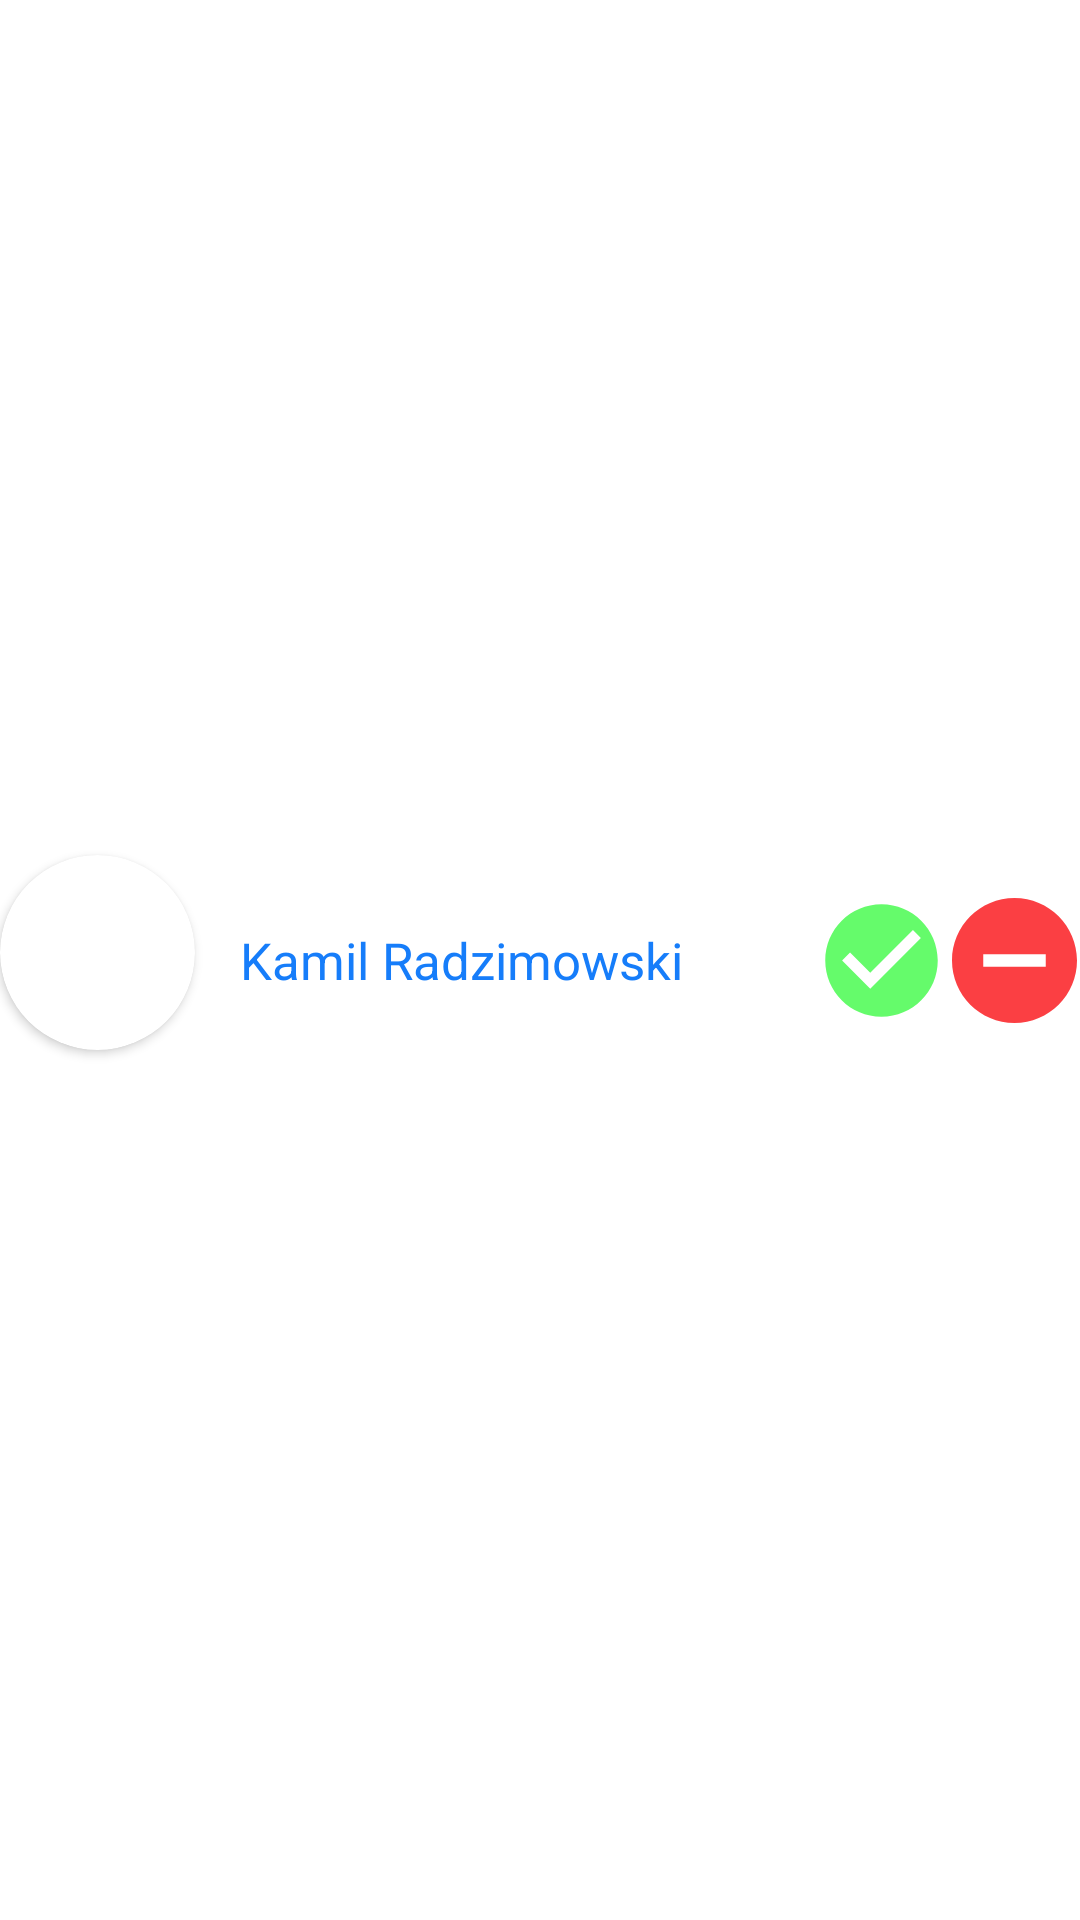

Where icons sit on this 1080 x 1920 app screen, as (x1, y1, x2, y2):
Accept a friend request: (825, 904, 938, 1017)
Decline a friend request: (952, 898, 1077, 1023)
